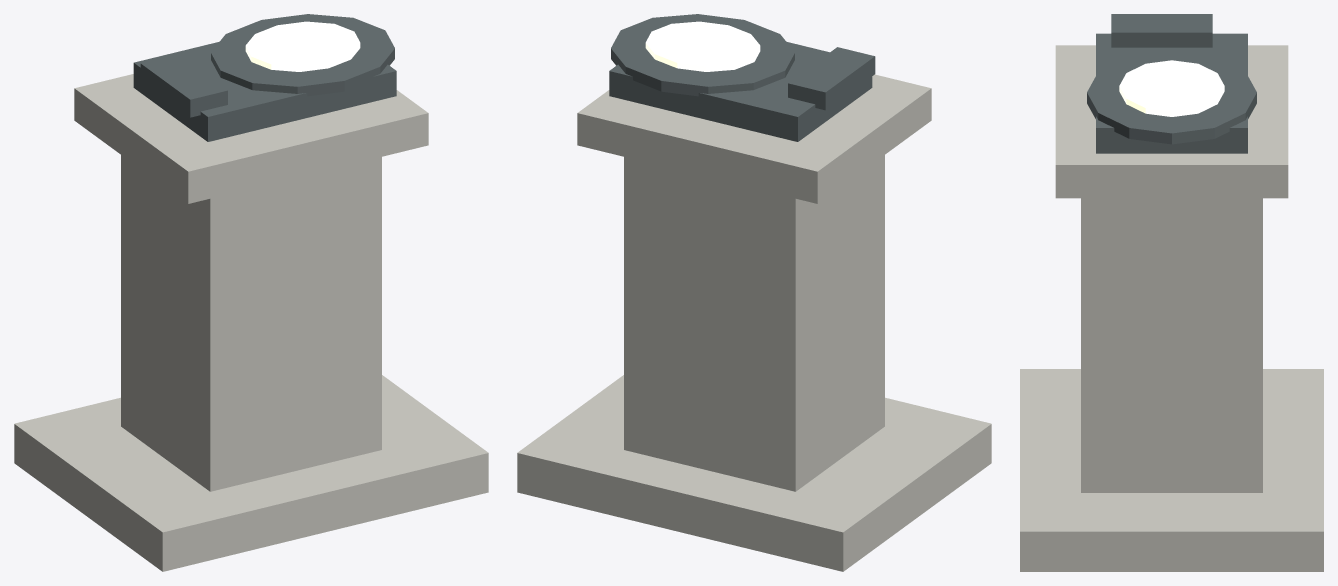
Rendered from LM04_Mosheng.glb.
3 views of the same model, side by side, from view 1: azimuth 30°, elevation 25°; view 2: azimuth 150°, elevation 25°; view 3: azimuth 270°, elevation 25° (orthographic). The views are drawn at different scales.
Visible parts, largest first — view 1: Column, Base, Cap, Inkstone, InkWellPool, InkSwirl, InkStick; view 2: Column, Base, Cap, Inkstone, InkWellPool, InkSwirl, InkStick; view 3: Column, Base, Cap, InkWellPool, Inkstone, InkSwirl, InkStick.
Part boxes in pixels (<box>): Column: <box>121,155,381,491</box>; Base: <box>14,375,488,571</box>; Cap: <box>74,74,428,203</box>; Inkstone: <box>133,41,396,141</box>; InkWellPool: <box>211,14,394,96</box>; InkSwirl: <box>245,21,360,71</box>; InkStick: <box>140,54,227,117</box>; Column: <box>624,155,884,491</box>; Base: <box>517,375,991,571</box>; Cap: <box>577,74,931,203</box>; Inkstone: <box>609,41,872,141</box>; InkWellPool: <box>611,14,794,96</box>; InkSwirl: <box>645,21,760,71</box>; InkStick: <box>788,47,875,110</box>; Column: <box>1081,198,1262,492</box>; Base: <box>1020,369,1323,571</box>; Cap: <box>1055,45,1288,198</box>; InkWellPool: <box>1087,51,1256,144</box>; Inkstone: <box>1096,33,1247,153</box>; InkSwirl: <box>1119,60,1224,116</box>; InkStick: <box>1111,14,1212,47</box>.
Size of the model in its own units: 1.9 by 2.35 by 1.5.
